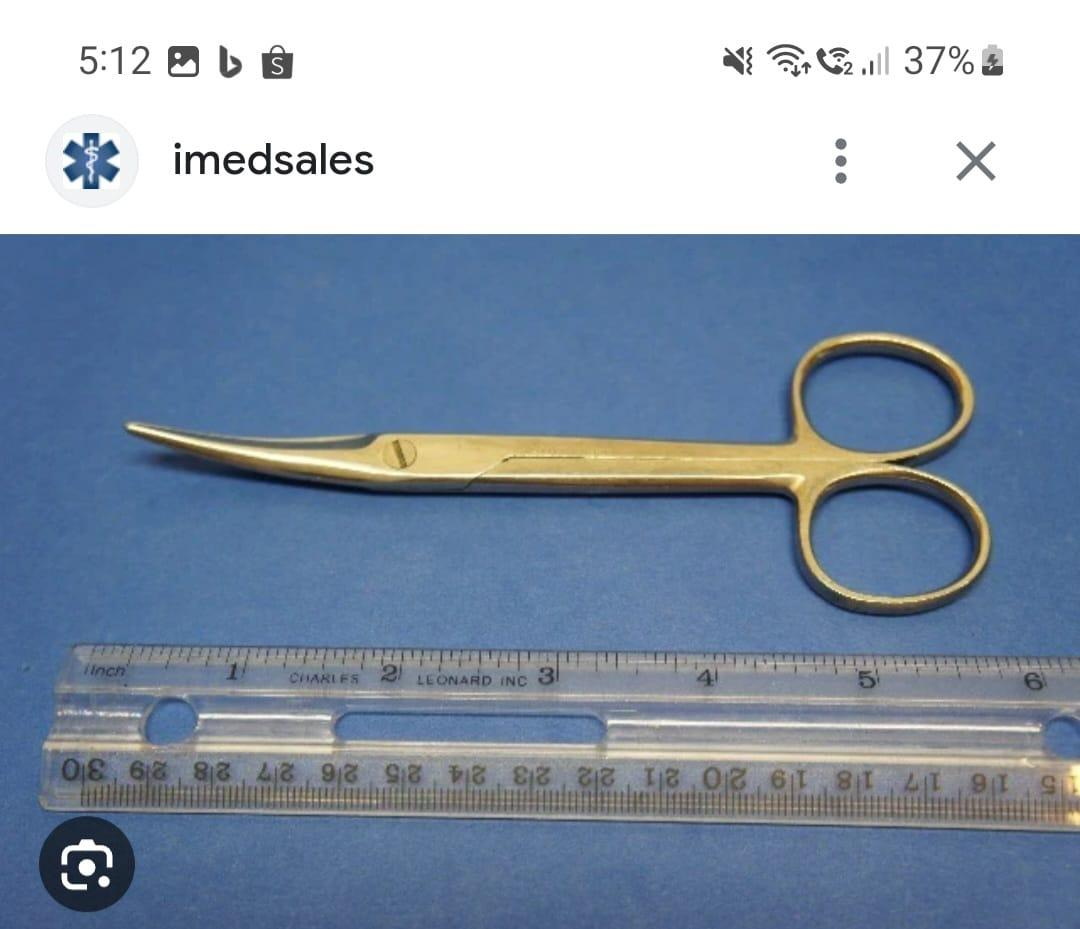Curved Mayo: (117, 320, 993, 613)
